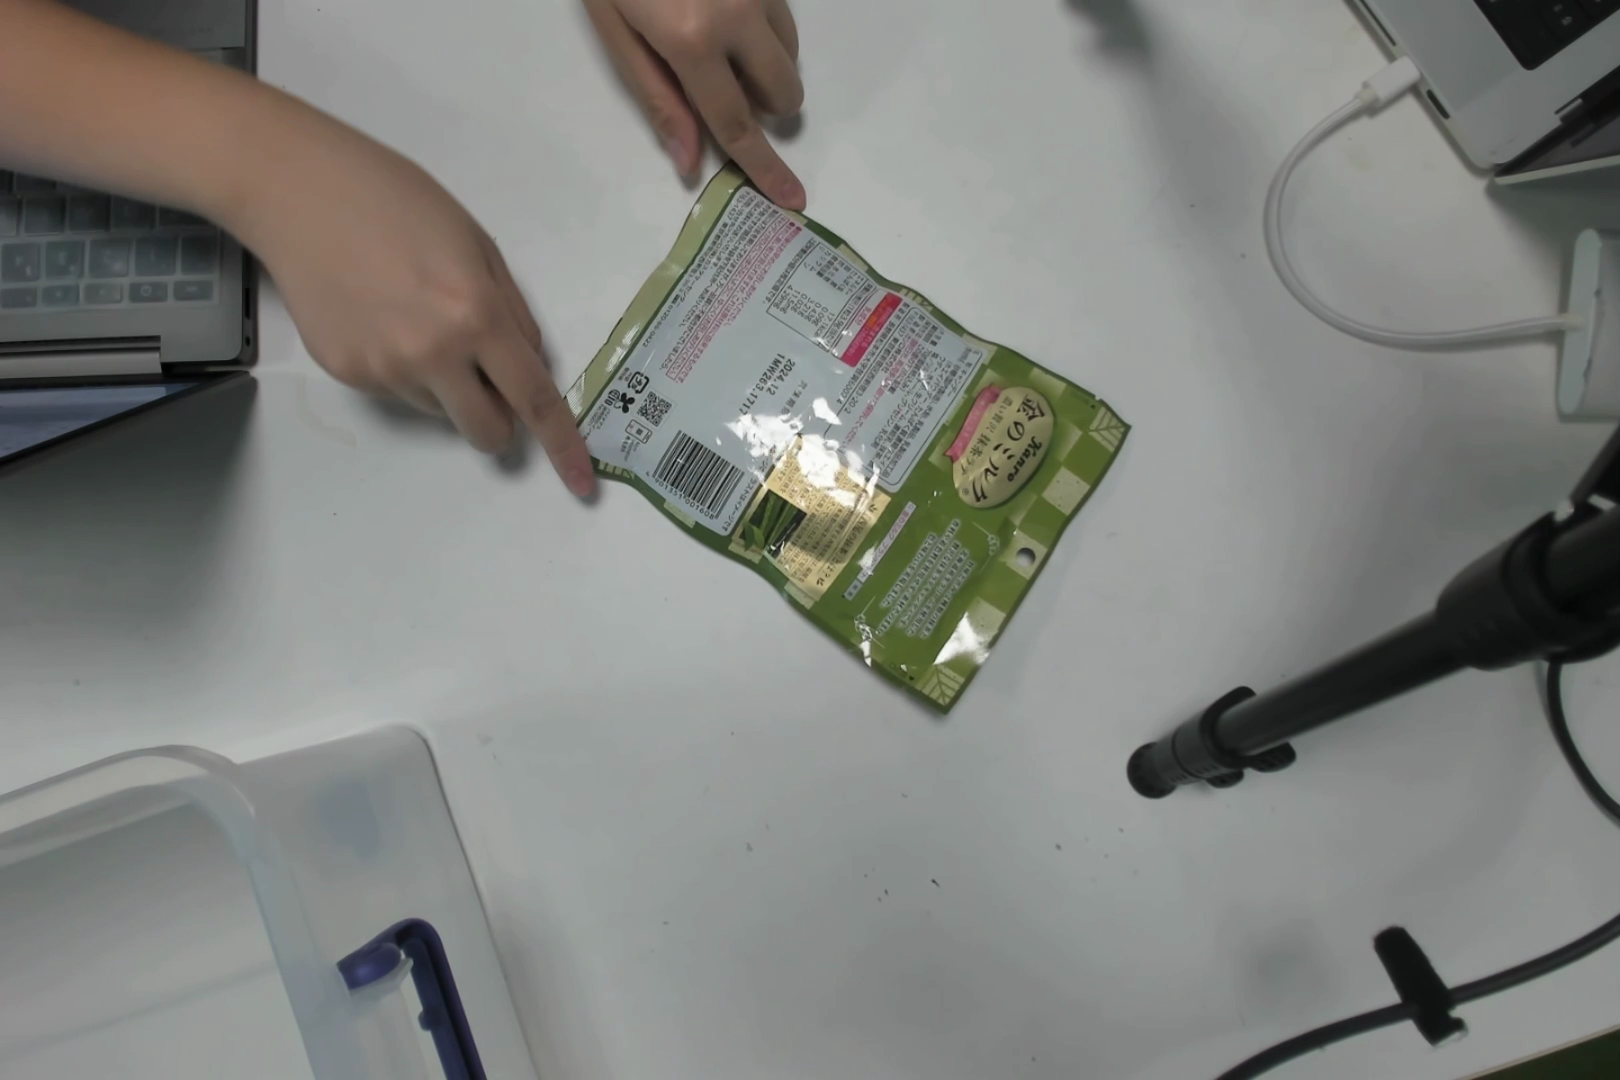SweetsChocolatesOthers_1-99g_NonHalal_NonHealthy: (601, 199, 1084, 665)
